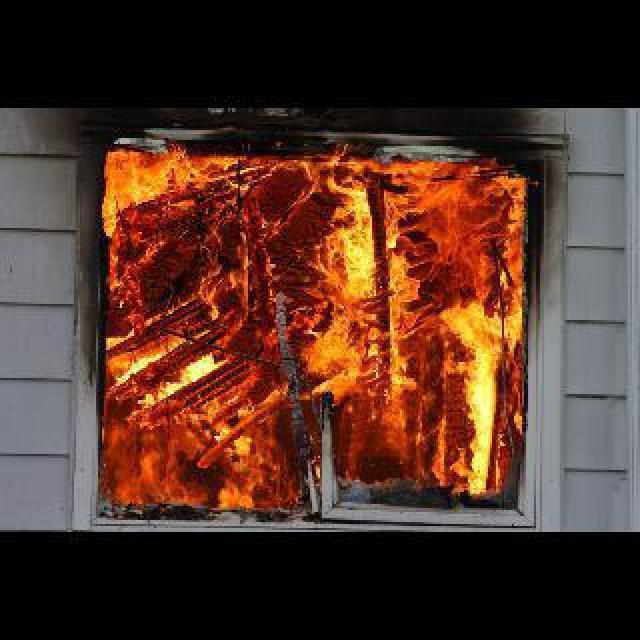Fire: (96, 142, 530, 512)
